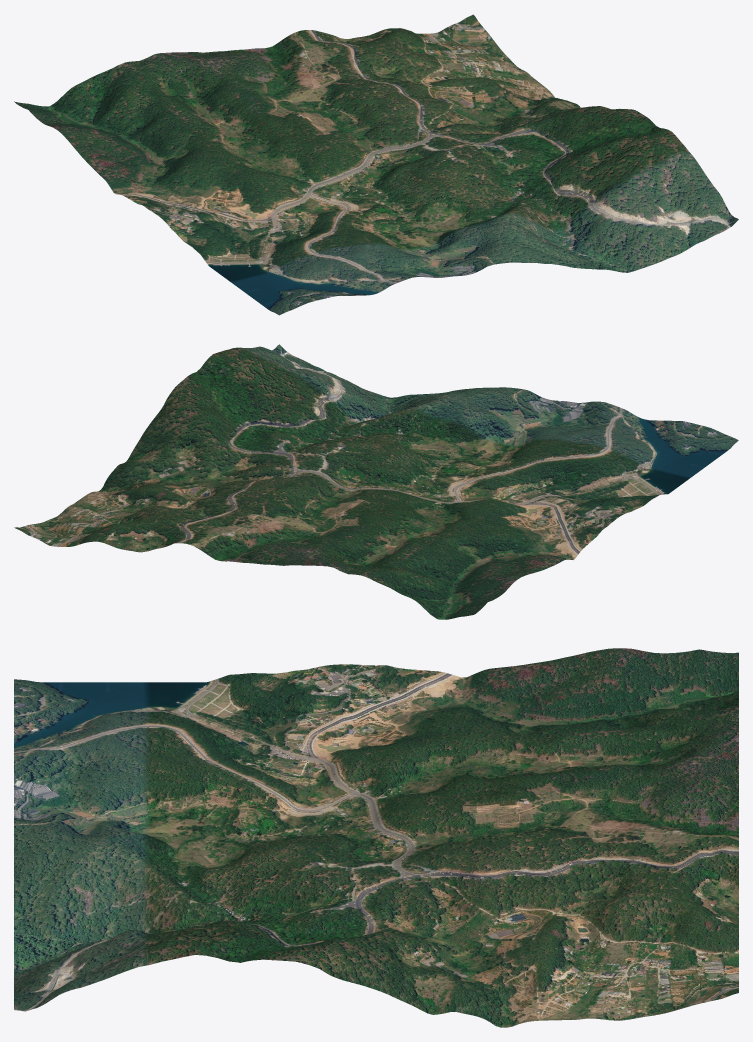
The model's file is terrain_real_T_E00_S02.glb.
The picture shows the model from 3 angles, top to bottom: view 1: azimuth 30°, elevation 25°; view 2: azimuth 150°, elevation 25°; view 3: azimuth 270°, elevation 25°; orthographic projection. The views are drawn at different scales.
Parts seen in each view (by area): view 1: TerrainReal_T_E00_S02; view 2: TerrainReal_T_E00_S02; view 3: TerrainReal_T_E00_S02.
Part boxes in pixels (x1,y1,x2,y2): TerrainReal_T_E00_S02: (14,14,738,315); TerrainReal_T_E00_S02: (14,344,738,619); TerrainReal_T_E00_S02: (14,648,738,1027).
Size of the model in its own units: 2000 by 312 by 2000.
Materials: 1 (1 with a texture image).
